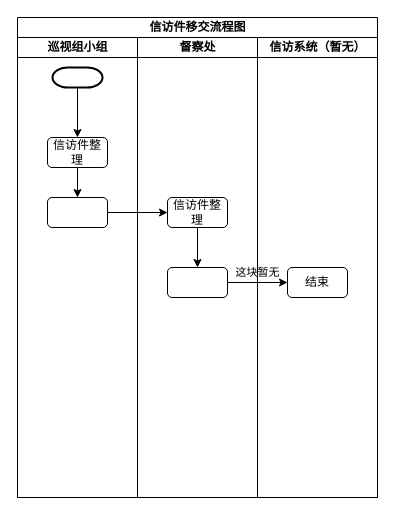
Some shapes in this 395 by 515 pixel diagram are drawn without their labels. Each missing label, with the box of its shape:
开始: (51, 66, 103, 88)
批量提交信访件: (46, 196, 108, 228)
批量移交信访件: (166, 266, 228, 298)
